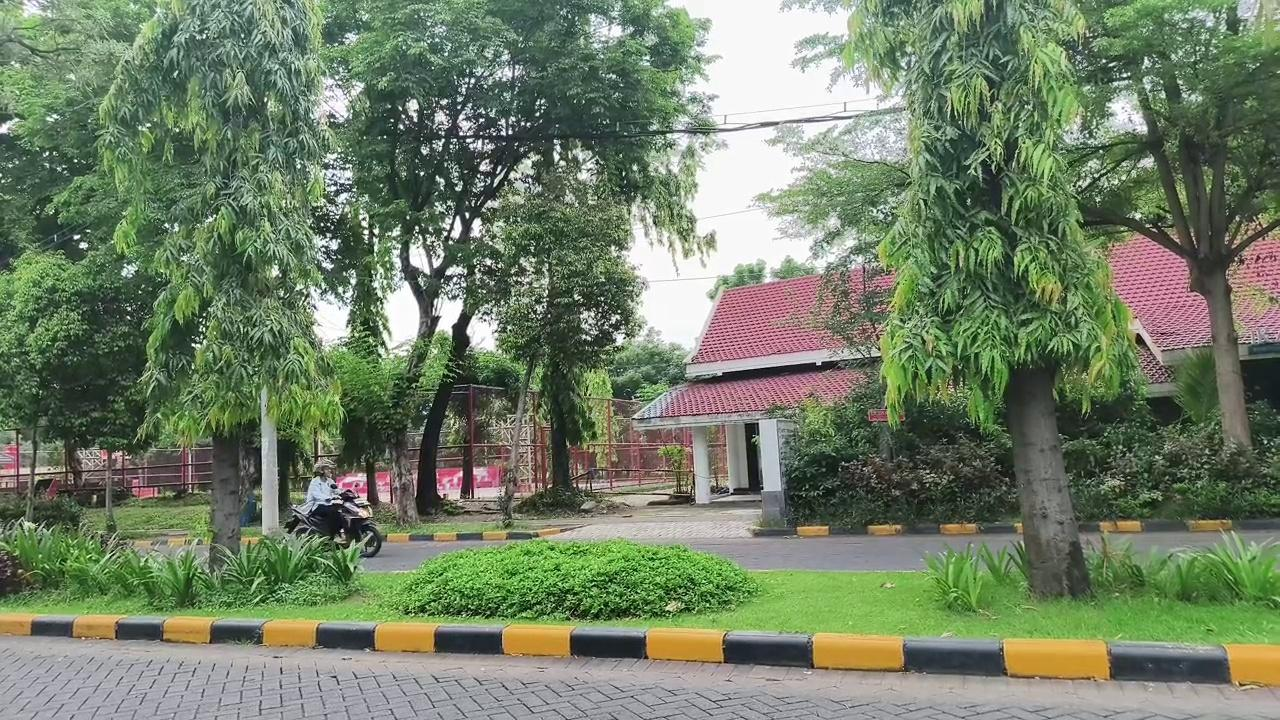Helmet: (301, 460, 341, 537)
Motor: (332, 489, 383, 557)
